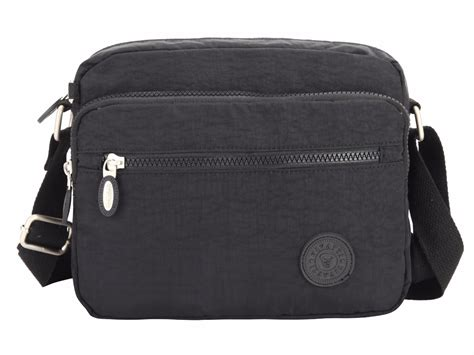nylon: (67, 40, 410, 319)
